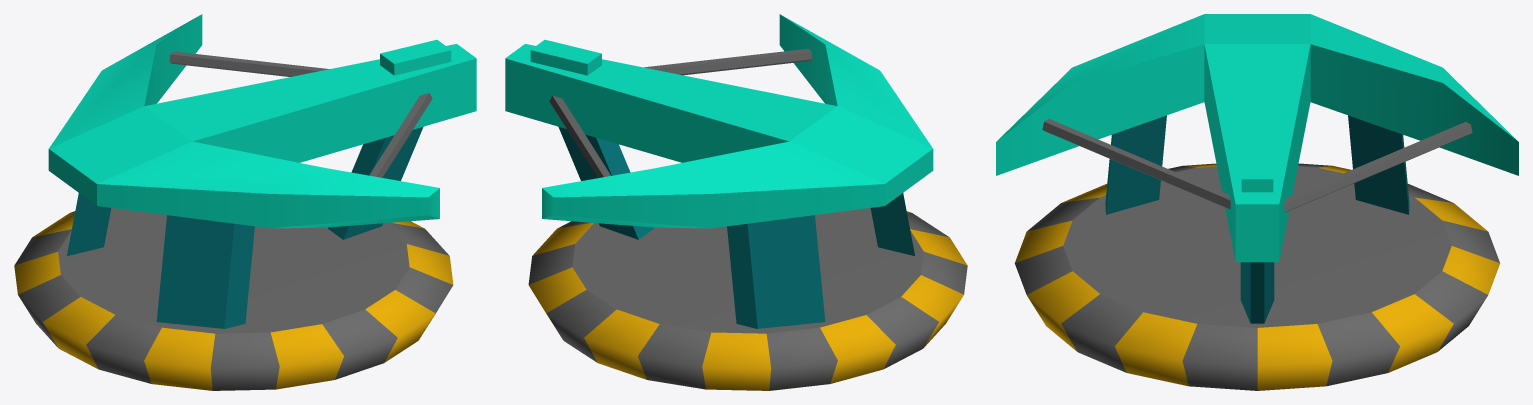
File: Varistor.fbx
The picture shows the model from 3 angles, left to right: view 1: azimuth 30°, elevation 25°; view 2: azimuth 150°, elevation 25°; view 3: azimuth 270°, elevation 25°; orthographic projection. The views are drawn at different scales.
Visible parts, largest first — view 1: pCube1, pCylinder1, pCylinder5, pCube3, pCylinder4; view 2: pCube1, pCylinder1, pCylinder4, pCube3, pCylinder5; view 3: pCylinder1, pCube1, pCylinder5, pCylinder4, pCube3.
Boxes of the visible parts, x1,y1,x2,y2 form: pCube1: [48, 14, 476, 328]; pCylinder1: [14, 208, 453, 390]; pCylinder5: [169, 51, 329, 76]; pCube3: [380, 39, 451, 75]; pCylinder4: [369, 93, 432, 177]; pCube1: [505, 14, 933, 328]; pCylinder1: [528, 208, 967, 390]; pCylinder4: [644, 48, 812, 75]; pCube3: [530, 39, 601, 75]; pCylinder5: [549, 95, 610, 177]; pCylinder1: [1014, 163, 1500, 390]; pCube1: [996, 14, 1518, 323]; pCylinder5: [1284, 122, 1472, 212]; pCylinder4: [1042, 119, 1230, 209]; pCube3: [1241, 148, 1273, 192].
Size of the model in its own units: 7.42 by 3.52 by 7.21.
